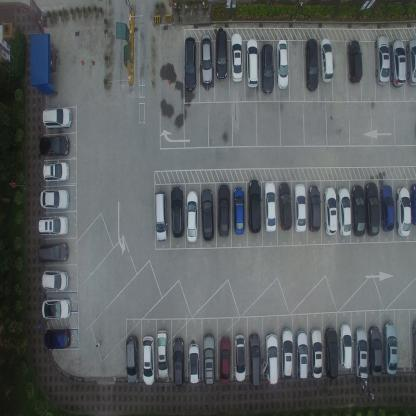car: (199, 189, 215, 244), (382, 321, 398, 376), (247, 178, 262, 235), (364, 182, 380, 235), (367, 324, 383, 377), (353, 326, 369, 379), (374, 34, 390, 86), (170, 185, 185, 238), (323, 326, 338, 379), (264, 333, 279, 386), (390, 38, 406, 87), (41, 105, 72, 130), (305, 38, 319, 93), (125, 334, 140, 385), (278, 180, 293, 230), (323, 186, 338, 236), (352, 184, 366, 237), (154, 189, 168, 242), (217, 183, 230, 239), (260, 43, 274, 95), (184, 36, 197, 92), (141, 334, 155, 386), (347, 40, 363, 85), (264, 178, 277, 233), (38, 241, 69, 264), (38, 134, 70, 156), (294, 182, 308, 232), (396, 186, 410, 236), (41, 297, 71, 320), (248, 333, 261, 386), (308, 183, 322, 232), (337, 187, 351, 236), (276, 37, 289, 89), (230, 33, 243, 85), (215, 27, 228, 79), (280, 327, 293, 379), (202, 333, 215, 385), (380, 184, 394, 232), (43, 325, 71, 349), (156, 328, 169, 379), (40, 187, 70, 209), (232, 186, 245, 236), (200, 34, 213, 84), (295, 330, 308, 380), (186, 189, 198, 243), (338, 322, 352, 368), (172, 338, 185, 387), (320, 37, 334, 82), (42, 160, 70, 182), (41, 269, 69, 291), (246, 38, 258, 89), (310, 327, 322, 378), (39, 216, 69, 236), (234, 332, 246, 381), (219, 336, 231, 385), (188, 342, 200, 384), (406, 38, 416, 88), (410, 318, 416, 370), (410, 183, 416, 226)
